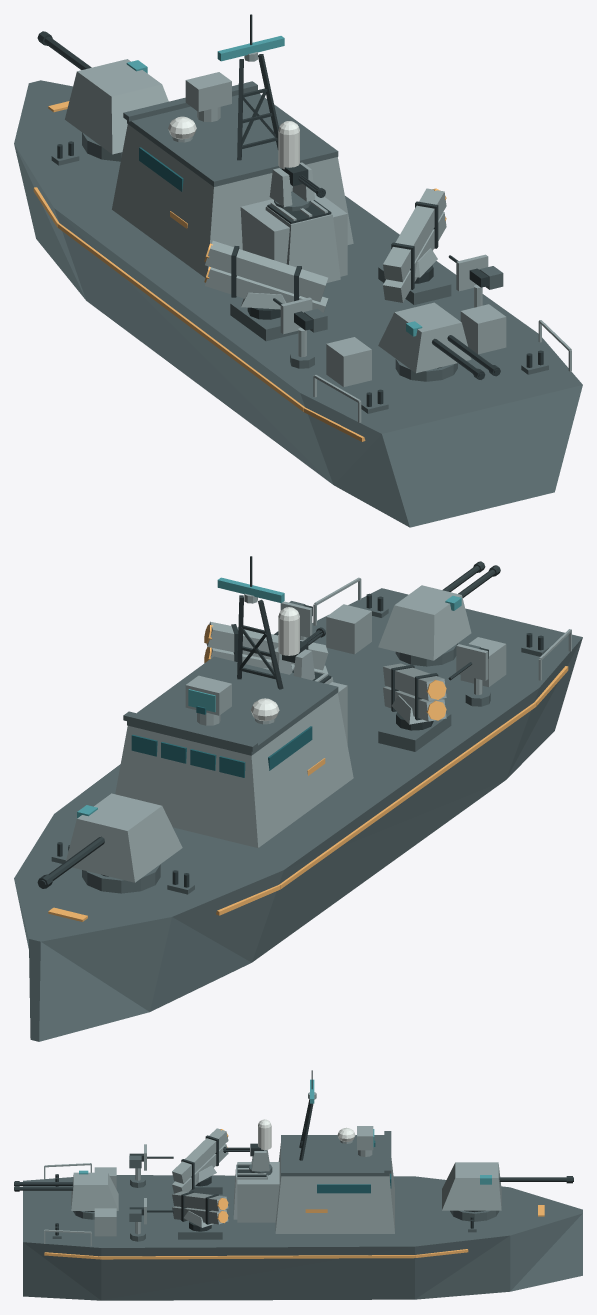
The model's file is ESC_STK_T3.fbx.
3 renders of one model, top to bottom at view 1: azimuth 30°, elevation 25°; view 2: azimuth 150°, elevation 25°; view 3: azimuth 270°, elevation 25°, orthographic. The views are drawn at different scales.
Parts seen in each view (by area): view 1: ContinuousHull.003, Deckhouse.003, Roof.003, PrimaryGunCupola.003, AftGunCupola.003, CIWSRaisedServicePlatform, MissileBankPortTube2.001, FunnelEnclosure.003, MissileBankStarboardTube2.001, ReadyAmmoLocker, ReadyAmmoLocker.001, RoleHullStripe-1_1.003 (+13 smaller); view 2: ContinuousHull.003, Deckhouse.003, Roof.003, PrimaryGunCupola.003, AftGunCupola.003, ReadyAmmoLocker.001, RoleHullStripe-1_1.003, MissileBankStarboardTube2.001, BridgeBrow.003, MissileBankPortFoundation.002, PrimaryGunFoundation.003, MissileBankPortTube2.001 (+8 smaller); view 3: ContinuousHull.003, Deckhouse.003, Roof.003, PrimaryGunCupola.003, CIWSRaisedServicePlatform, AftGunCupola.003, RoleHullStripe1_1.003, MissileBankPortTube2.001, MissileBankStarboardTube2.001, ReadyAmmoLocker.001, MissileBankStarboardFoundation.002, BridgeSideGlass1.003 (+9 smaller).
Boxes of the visible parts, bbox=[...] form: ContinuousHull.003: bbox=[14, 80, 582, 527]; Deckhouse.003: bbox=[112, 124, 353, 277]; Roof.003: bbox=[127, 93, 338, 186]; PrimaryGunCupola.003: bbox=[65, 59, 168, 154]; AftGunCupola.003: bbox=[378, 302, 471, 373]; CIWSRaisedServicePlatform: bbox=[240, 192, 347, 276]; MissileBankPortTube2.001: bbox=[205, 240, 327, 301]; FunnelEnclosure.003: bbox=[265, 206, 340, 282]; MissileBankStarboardTube2.001: bbox=[383, 188, 446, 282]; ReadyAmmoLocker: bbox=[326, 337, 371, 387]; ReadyAmmoLocker.001: bbox=[460, 304, 506, 354]; RoleHullStripe-1_1.003: bbox=[57, 223, 304, 411]; ContinuousHull.003: bbox=[14, 588, 582, 1041]; Deckhouse.003: bbox=[115, 693, 353, 847]; Roof.003: bbox=[127, 656, 338, 755]; PrimaryGunCupola.003: bbox=[66, 793, 182, 882]; AftGunCupola.003: bbox=[378, 585, 471, 660]; ReadyAmmoLocker.001: bbox=[326, 604, 371, 654]; RoleHullStripe-1_1.003: bbox=[279, 702, 535, 888]; MissileBankStarboardTube2.001: bbox=[206, 621, 328, 670]; BridgeBrow.003: bbox=[123, 711, 257, 751]; MissileBankPortFoundation.002: bbox=[378, 713, 451, 751]; PrimaryGunFoundation.003: bbox=[82, 864, 160, 893]; MissileBankPortTube2.001: bbox=[383, 663, 446, 700]; ContinuousHull.003: bbox=[23, 1175, 582, 1300]; Deckhouse.003: bbox=[275, 1143, 394, 1233]; Roof.003: bbox=[281, 1135, 389, 1176]; PrimaryGunCupola.003: bbox=[442, 1162, 501, 1210]; CIWSRaisedServicePlatform: bbox=[237, 1162, 279, 1222]; AftGunCupola.003: bbox=[71, 1172, 118, 1210]; RoleHullStripe1_1.003: bbox=[101, 1255, 414, 1259]; MissileBankPortTube2.001: bbox=[172, 1128, 228, 1183]; MissileBankStarboardTube2.001: bbox=[172, 1191, 228, 1211]; ReadyAmmoLocker.001: bbox=[94, 1208, 116, 1236]; MissileBankStarboardFoundation.002: bbox=[178, 1221, 222, 1239]; BridgeSideGlass1.003: bbox=[317, 1184, 370, 1193].
Size of the model in its own units: 281 by 362 by 914.
